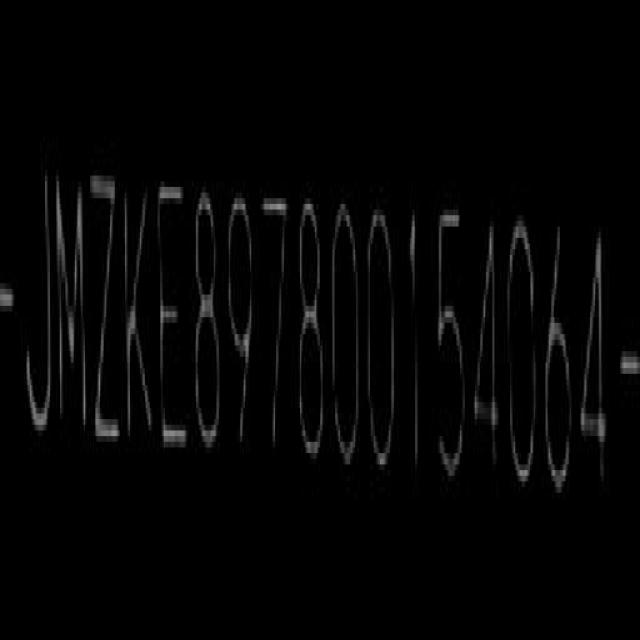0: (330, 200, 360, 478), (367, 200, 396, 478)
1: (404, 208, 424, 476)
4: (584, 233, 612, 503), (473, 208, 499, 494)
5: (436, 208, 466, 492)
6: (543, 218, 572, 501)
7: (262, 185, 290, 462)
8: (297, 193, 326, 470), (194, 184, 220, 463)
9: (225, 193, 254, 457)
C: (510, 221, 539, 498)
E: (157, 179, 187, 461)
J: (26, 168, 54, 447)
K: (122, 170, 156, 449)
M: (52, 164, 84, 451)
Z: (94, 171, 120, 455)
